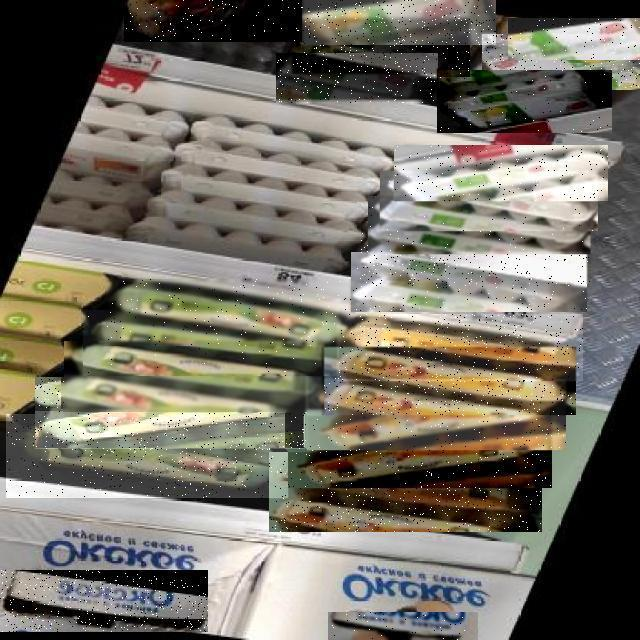Eggs: (6, 414, 288, 498), (269, 453, 542, 533), (36, 378, 308, 452), (288, 415, 552, 488), (64, 342, 324, 414), (306, 379, 566, 450), (322, 347, 576, 415), (83, 310, 339, 376), (105, 279, 355, 346), (337, 314, 583, 381), (361, 222, 591, 284), (351, 253, 587, 313), (380, 171, 598, 231), (0, 570, 208, 632), (368, 197, 590, 255), (394, 145, 608, 201), (437, 70, 612, 133), (292, 18, 470, 77), (482, 35, 640, 91), (301, 0, 497, 45), (276, 54, 438, 104), (124, 0, 302, 42), (508, 18, 640, 60), (328, 612, 478, 640)
